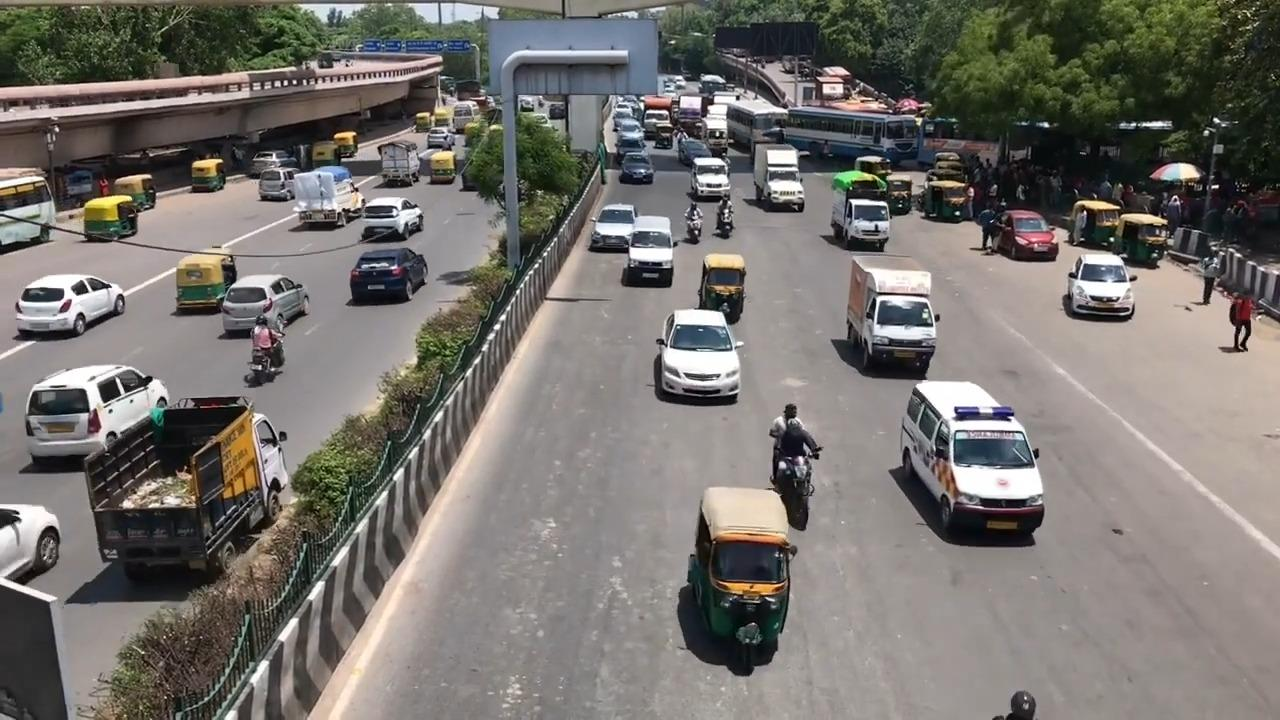Auto: (688, 482, 806, 684), (174, 245, 238, 314), (1116, 212, 1170, 275), (698, 251, 748, 319), (1073, 193, 1124, 252), (82, 194, 141, 242), (924, 178, 971, 225), (113, 171, 160, 210), (190, 158, 228, 194), (885, 170, 913, 218), (428, 151, 457, 185), (310, 142, 341, 169), (332, 131, 358, 156)
Bike: (758, 400, 830, 538), (245, 312, 290, 387), (714, 190, 739, 241), (683, 198, 706, 247)
Car: (26, 361, 173, 466), (660, 307, 743, 404), (15, 271, 128, 335), (1063, 249, 1137, 323), (224, 271, 309, 335), (348, 245, 434, 304), (989, 204, 1062, 259), (360, 194, 425, 240), (587, 198, 636, 256), (258, 165, 303, 205), (691, 156, 731, 199), (620, 152, 657, 187), (251, 149, 297, 175)
Truck: (90, 397, 296, 575), (843, 246, 936, 380), (824, 173, 894, 248), (293, 165, 366, 228), (752, 142, 810, 215), (376, 138, 422, 186)
